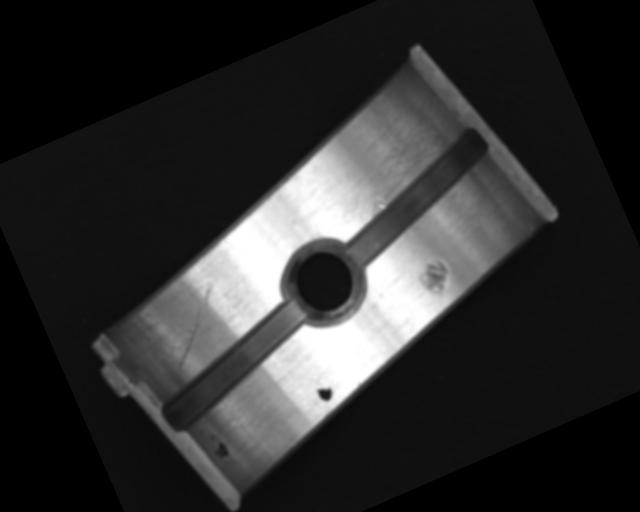blot: (205, 429, 232, 463), (311, 377, 335, 405)
bruise: (413, 256, 458, 306)
gap: (320, 124, 511, 271), (140, 296, 328, 435)
hole: (274, 231, 375, 336)
nick: (150, 279, 238, 370)
scratch: (311, 92, 476, 234)
